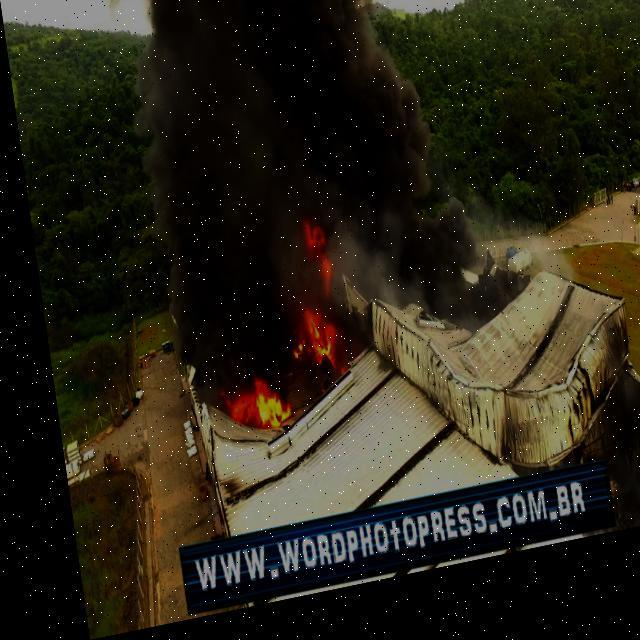Fire: (206, 375, 282, 450), (276, 312, 331, 386), (294, 227, 326, 313)
